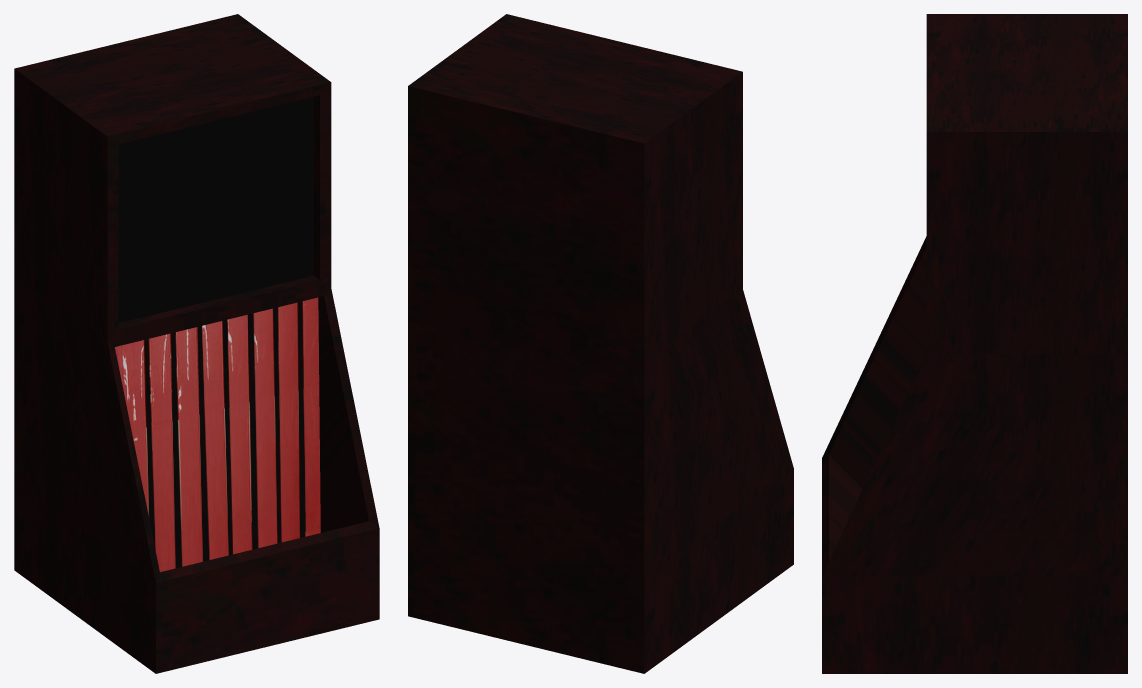
The model's file is SaleMachine.fbx.
3 renders of one model, left to right at view 1: azimuth 30°, elevation 25°; view 2: azimuth 150°, elevation 25°; view 3: azimuth 270°, elevation 25°, orthographic. The views are drawn at different scales.
Visible parts, largest first — view 1: SaleMachine; view 2: SaleMachine; view 3: SaleMachine.
Part boxes in pixels (x1=…): SaleMachine: x1=14, y1=14, x2=379, y2=673; SaleMachine: x1=408, y1=14, x2=793, y2=673; SaleMachine: x1=822, y1=14, x2=1127, y2=673.
Size of the model in its own units: 93.29 by 200 by 102.
